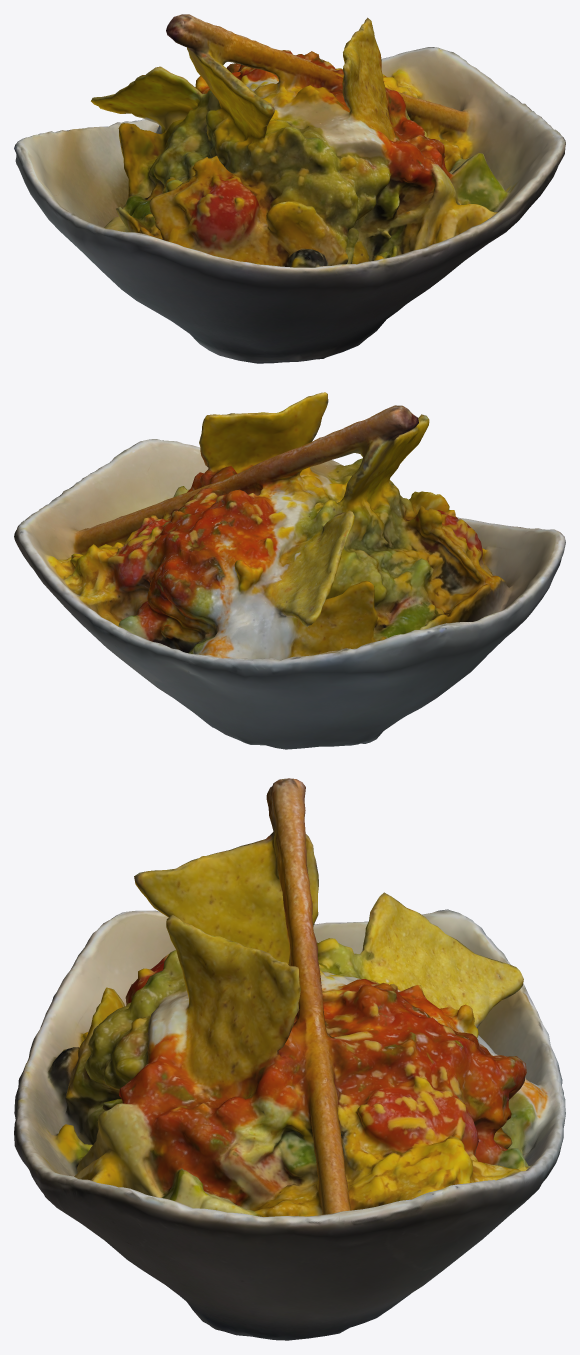
The model's file is tacoSalad_1752072096811.glb.
3 views of the same model, one above another, from view 1: azimuth 30°, elevation 25°; view 2: azimuth 150°, elevation 25°; view 3: azimuth 270°, elevation 25° (orthographic). The views are drawn at different scales.
Parts seen in each view (by area): view 1: 3DModel_Custom; view 2: 3DModel_Custom; view 3: 3DModel_Custom.
Boxes of the visible parts, box(x1,y1,x2,y2) form: 3DModel_Custom: box(14, 14, 565, 363); 3DModel_Custom: box(14, 392, 565, 749); 3DModel_Custom: box(14, 778, 565, 1340).
Size of the model in its own units: 0.2268 by 0.1616 by 0.1778.
1 material, 1 textured.
